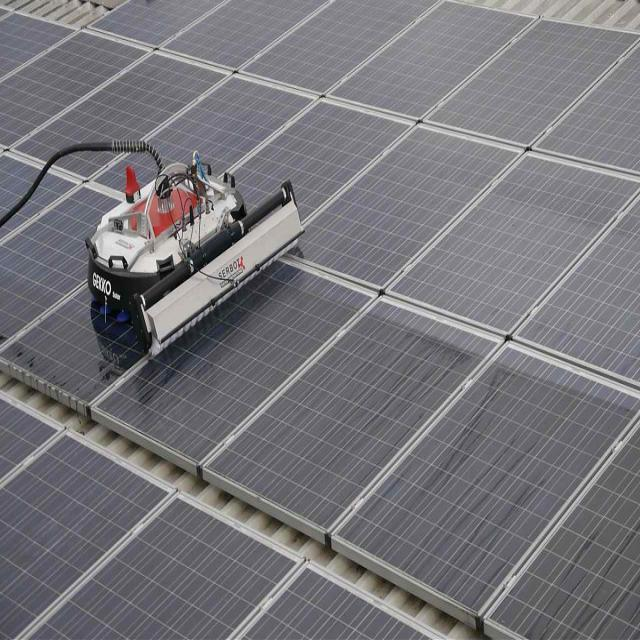dust-solar-panel: (0, 0, 640, 636), (43, 502, 285, 633), (0, 440, 151, 636)
